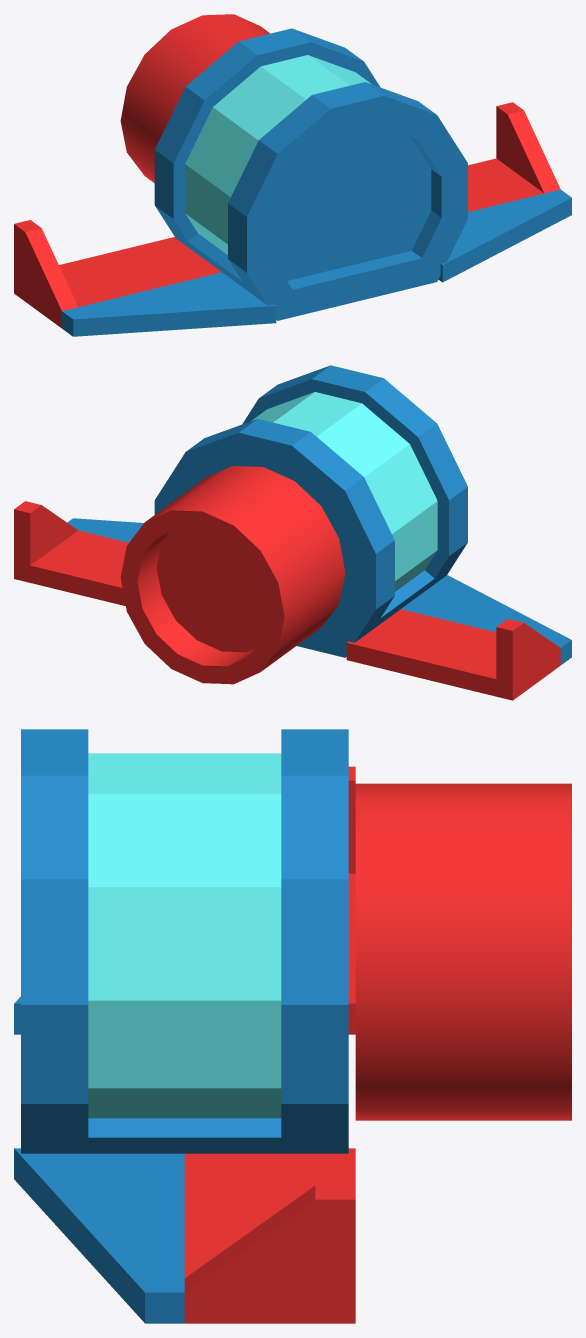
The picture shows the model from 3 angles, top to bottom: view 1: azimuth 30°, elevation 25°; view 2: azimuth 150°, elevation 25°; view 3: azimuth 270°, elevation 25°; orthographic projection. The views are drawn at different scales.
Parts seen in each view (by area): view 1: A_0, wing_endHigh_2, wing_endHigh_1, SpaceBits_3; view 2: A_0, SpaceBits_3, wing_endHigh_2, wing_endHigh_1; view 3: A_0, SpaceBits_3, wing_endHigh_1, wing_endHigh_2.
Boxes of the visible parts, x1,y1,x2,y2 form: A_0: [154, 28, 467, 320]; wing_endHigh_2: [14, 220, 276, 336]; wing_endHigh_1: [438, 102, 571, 282]; SpaceBits_3: [120, 14, 269, 182]; A_0: [154, 365, 467, 657]; SpaceBits_3: [120, 466, 345, 684]; wing_endHigh_2: [346, 575, 571, 700]; wing_endHigh_1: [14, 501, 143, 605]; A_0: [21, 729, 348, 1153]; SpaceBits_3: [355, 783, 571, 1120]; wing_endHigh_1: [14, 1148, 355, 1323]; wing_endHigh_2: [14, 766, 355, 1034].
Size of the model in its own units: 30 by 11.45 by 16.33.
